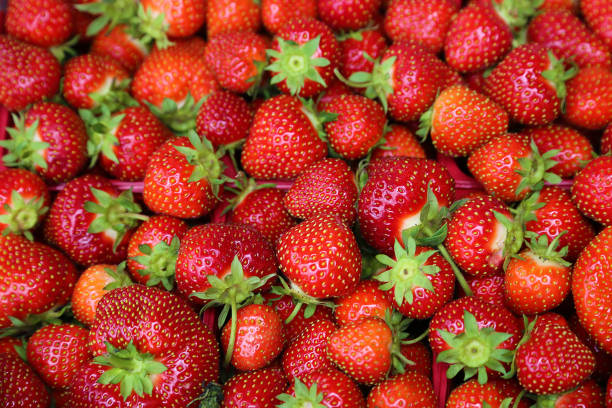Fresa: (90, 282, 221, 408), (355, 152, 461, 254), (43, 172, 137, 269), (428, 291, 525, 383), (178, 222, 279, 307), (274, 209, 367, 301), (373, 36, 467, 126), (140, 131, 225, 228), (240, 93, 331, 183), (1, 226, 77, 329), (437, 188, 518, 282), (9, 98, 94, 183), (484, 41, 564, 126), (514, 319, 600, 397), (268, 14, 344, 98), (380, 242, 459, 321), (428, 82, 511, 156), (515, 185, 599, 257), (444, 2, 525, 74), (468, 133, 546, 207), (282, 156, 362, 228), (325, 313, 401, 388), (310, 89, 389, 160), (505, 241, 575, 320), (125, 214, 193, 291), (25, 319, 97, 390), (202, 29, 270, 100), (59, 52, 135, 115), (1, 36, 63, 112), (221, 302, 287, 370), (194, 88, 254, 154), (70, 262, 133, 319), (1, 167, 51, 236), (284, 367, 366, 408), (220, 367, 290, 408)
